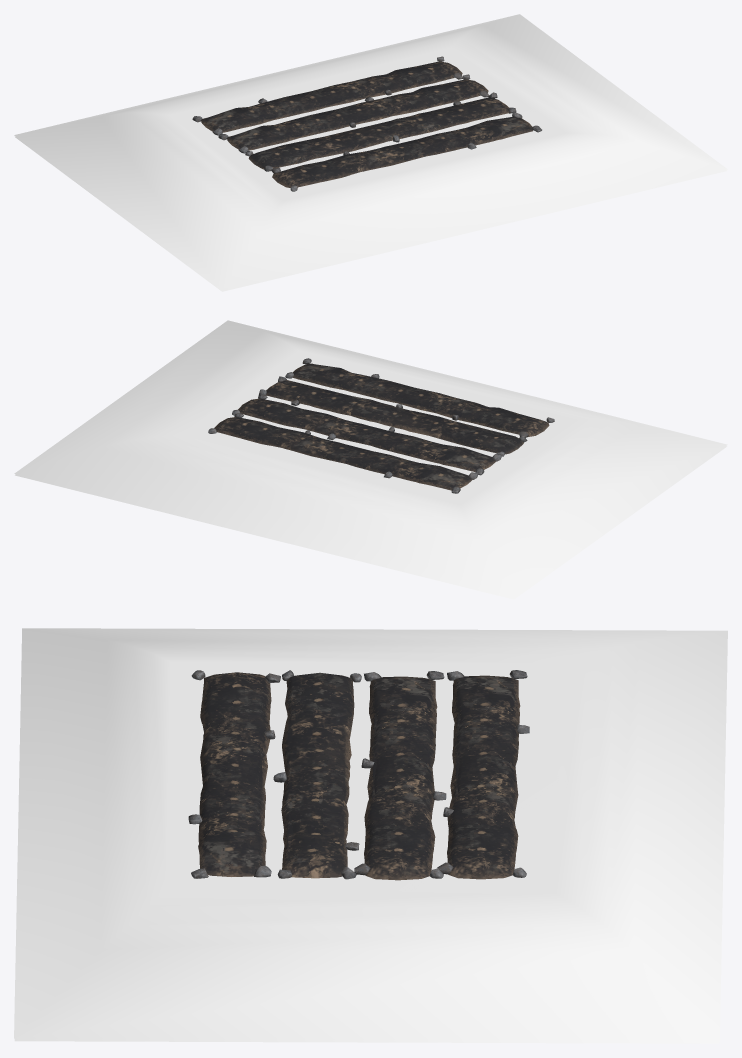
Rendered from objects_un_dlc1_t10vinyl02.gltf.
3 views of the same model, one above another, from view 1: azimuth 30°, elevation 25°; view 2: azimuth 150°, elevation 25°; view 3: azimuth 270°, elevation 25° (orthographic). The views are drawn at different scales.
Parts seen in each view (by area): view 1: nomerge_ground_shape:objects_un_dlc1_t10ground01_soil02, um_objects_un_dlc1_t10vinyl02_model_lod0Shape:objects_un_dlc (×2), um_objects_un_dlc1_t10vinyl02_model_lod1Shape:objects_un_dlc, um_objects_un_dlc1_t10vinyl02_model_lod2Shape:objects_un_dlc; view 2: nomerge_ground_shape:objects_un_dlc1_t10ground01_soil02, um_objects_un_dlc1_t10vinyl02_model_lod0Shape:objects_un_dlc (×2), um_objects_un_dlc1_t10vinyl02_model_lod1Shape:objects_un_dlc, um_objects_un_dlc1_t10vinyl02_model_lod2Shape:objects_un_dlc; view 3: nomerge_ground_shape:objects_un_dlc1_t10ground01_soil02, um_objects_un_dlc1_t10vinyl02_model_lod0Shape:objects_un_dlc (×2), um_objects_un_dlc1_t10vinyl02_model_lod1Shape:objects_un_dlc, um_objects_un_dlc1_t10vinyl02_model_lod2Shape:objects_un_dlc.
Part boxes in pixels (x1,y1,x2,y2): nomerge_ground_shape:objects_un_dlc1_t10ground01_soil02: [14, 14, 727, 290]; um_objects_un_dlc1_t10vinyl02_model_lod0Shape:objects_un_dlc (×2): [15, 56, 726, 291]; um_objects_un_dlc1_t10vinyl02_model_lod1Shape:objects_un_dlc: [192, 64, 541, 190]; um_objects_un_dlc1_t10vinyl02_model_lod2Shape:objects_un_dlc: [265, 74, 502, 171]; nomerge_ground_shape:objects_un_dlc1_t10ground01_soil02: [14, 320, 727, 597]; um_objects_un_dlc1_t10vinyl02_model_lod0Shape:objects_un_dlc (×2): [15, 358, 726, 599]; um_objects_un_dlc1_t10vinyl02_model_lod1Shape:objects_un_dlc: [209, 361, 549, 492]; um_objects_un_dlc1_t10vinyl02_model_lod2Shape:objects_un_dlc: [272, 381, 487, 462]; nomerge_ground_shape:objects_un_dlc1_t10ground01_soil02: [14, 628, 727, 1041]; um_objects_un_dlc1_t10vinyl02_model_lod0Shape:objects_un_dlc (×2): [14, 670, 719, 1043]; um_objects_un_dlc1_t10vinyl02_model_lod1Shape:objects_un_dlc: [192, 670, 526, 879]; um_objects_un_dlc1_t10vinyl02_model_lod2Shape:objects_un_dlc: [208, 709, 510, 864].
Size of what is drawn, in the model's own units: 20.03 by 1.47 by 14.63.
Materials: 3 (1 with a texture image).
